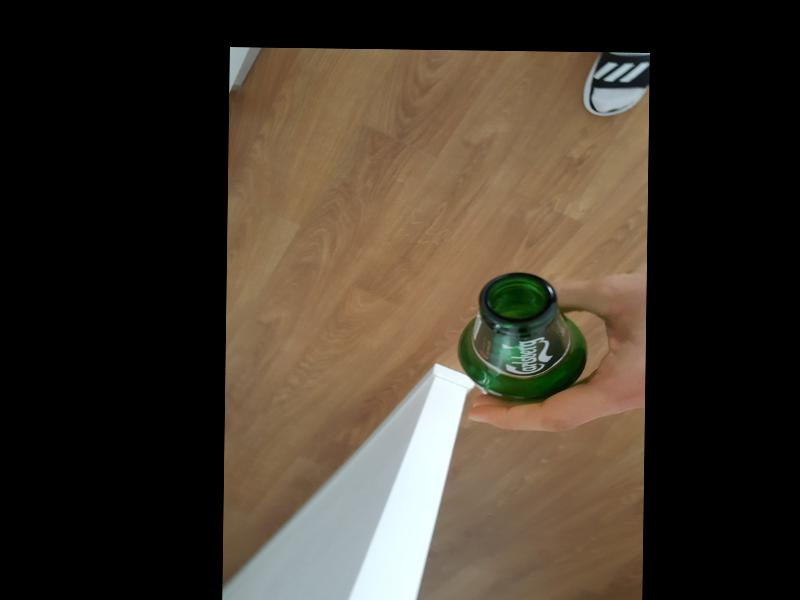Beer: (456, 271, 590, 402)
